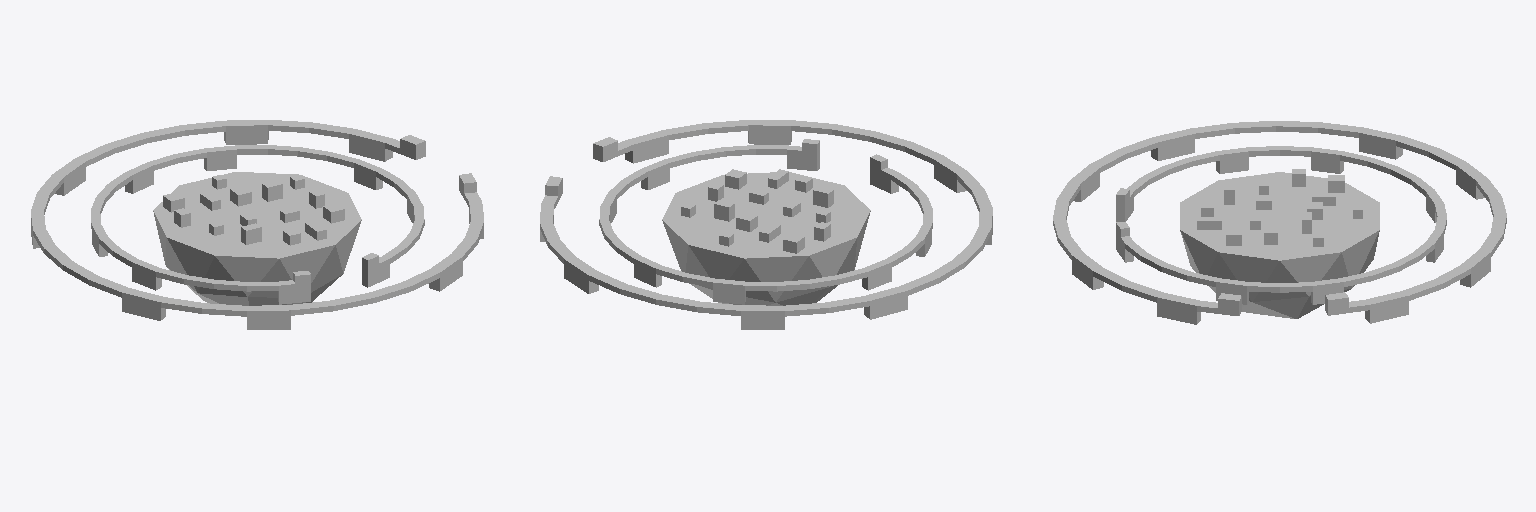
File: planet.obj
The picture shows the model from 3 angles: view 1: azimuth 30°, elevation 25°; view 2: azimuth 150°, elevation 25°; view 3: azimuth 270°, elevation 25°; orthographic projection.
Visible parts, largest first — view 1: ICO球, 円.001, 円; view 2: ICO球, 円.001, 円; view 3: ICO球, 円.001, 円.
Part boxes in pixels (x1,y1,x2,y2): ICO球: (153, 172, 361, 305); 円.001: (31, 120, 483, 329); 円: (91, 145, 424, 304); ICO球: (662, 172, 870, 305); 円.001: (540, 120, 992, 329); 円: (599, 139, 932, 304); ICO球: (1180, 172, 1379, 318); 円.001: (1053, 121, 1506, 324); 円: (1116, 146, 1446, 304).
Bounding box in the file's own units: 429 × 115 × 432.